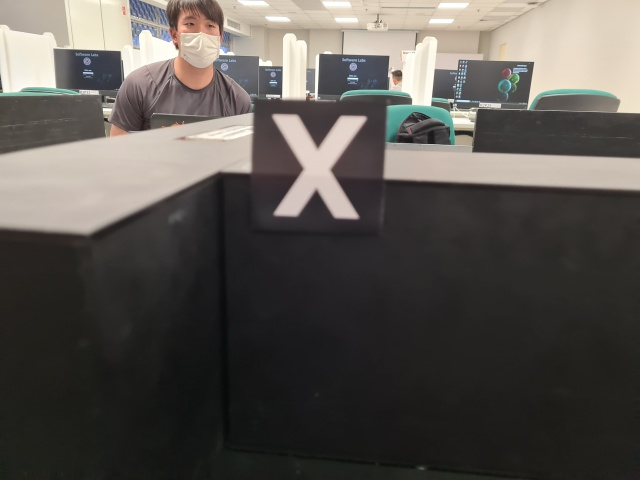alphabet_x: (252, 98, 386, 235)
